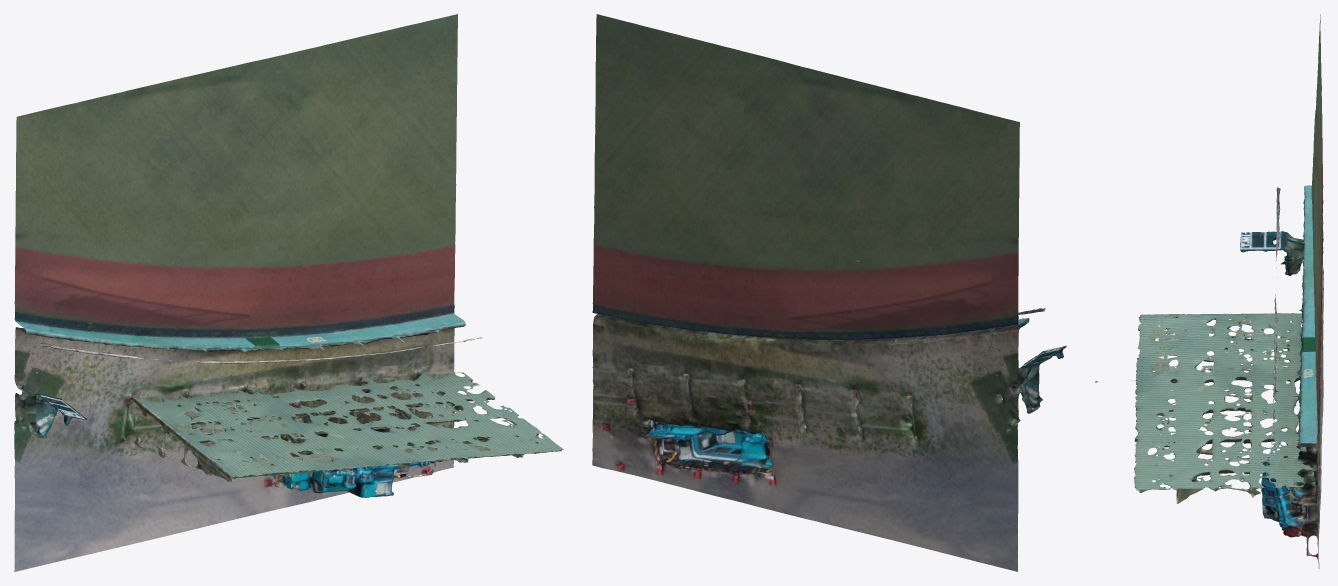
The model's file is Tile_+015_+004.fbx.
The picture shows the model from 3 angles, left to right: view 1: azimuth 30°, elevation 25°; view 2: azimuth 150°, elevation 25°; view 3: azimuth 270°, elevation 25°; orthographic projection. The views are drawn at different scales.
Visible parts, largest first — view 1: DefaultName; view 2: DefaultName; view 3: DefaultName.
Part boxes in pixels (<box>): DefaultName: <box>14,14,563,571</box>; DefaultName: <box>592,14,1066,571</box>; DefaultName: <box>1095,14,1323,568</box>.
Bounding box in the file's own units: 22.54 × 22.54 × 12.29.
